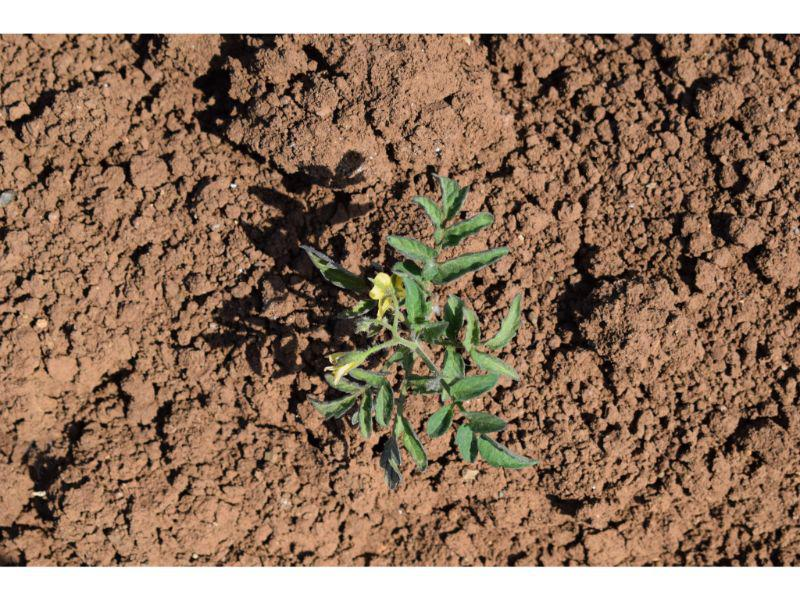tomato: (299, 170, 536, 483)
